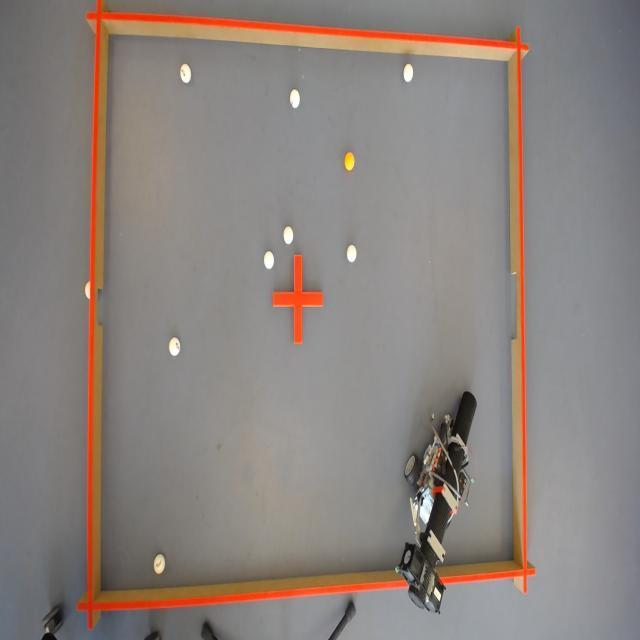orange: (342, 152, 354, 172)
robot: (402, 357, 464, 612)
white: (288, 86, 301, 109), (153, 551, 165, 573), (168, 336, 180, 356), (282, 225, 294, 245), (263, 251, 275, 271), (403, 62, 414, 82), (180, 64, 192, 82), (344, 242, 354, 262)
